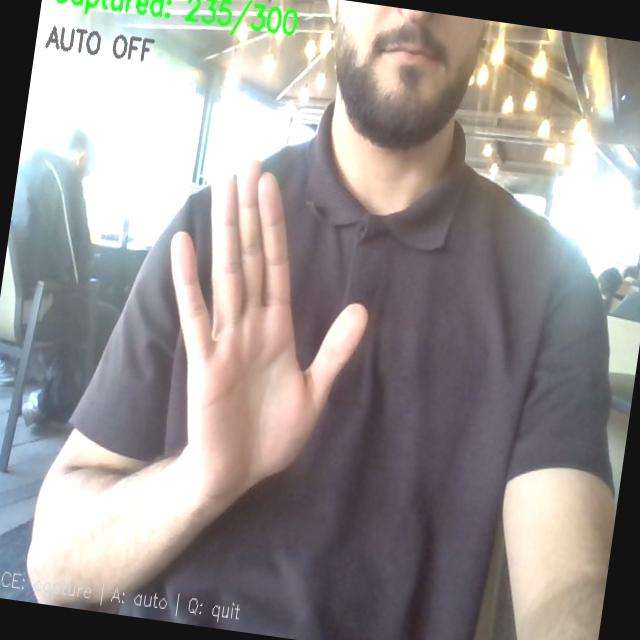Hand: (171, 161, 366, 499)
